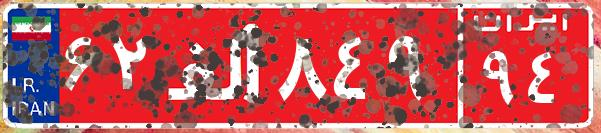2: (110, 28, 158, 105)
4: (330, 28, 385, 110), (525, 38, 570, 115)
6: (57, 26, 110, 107)
8: (273, 28, 330, 110)
9: (385, 28, 445, 110), (475, 38, 525, 113)
الف: (158, 15, 273, 115)
